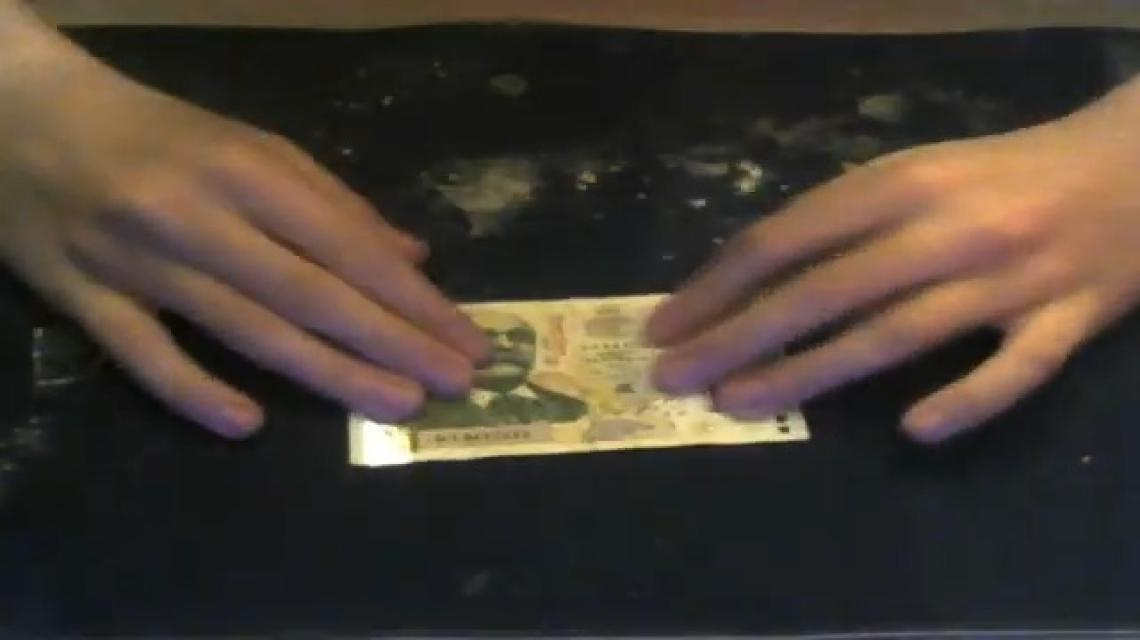10leva: (347, 295, 809, 468)
